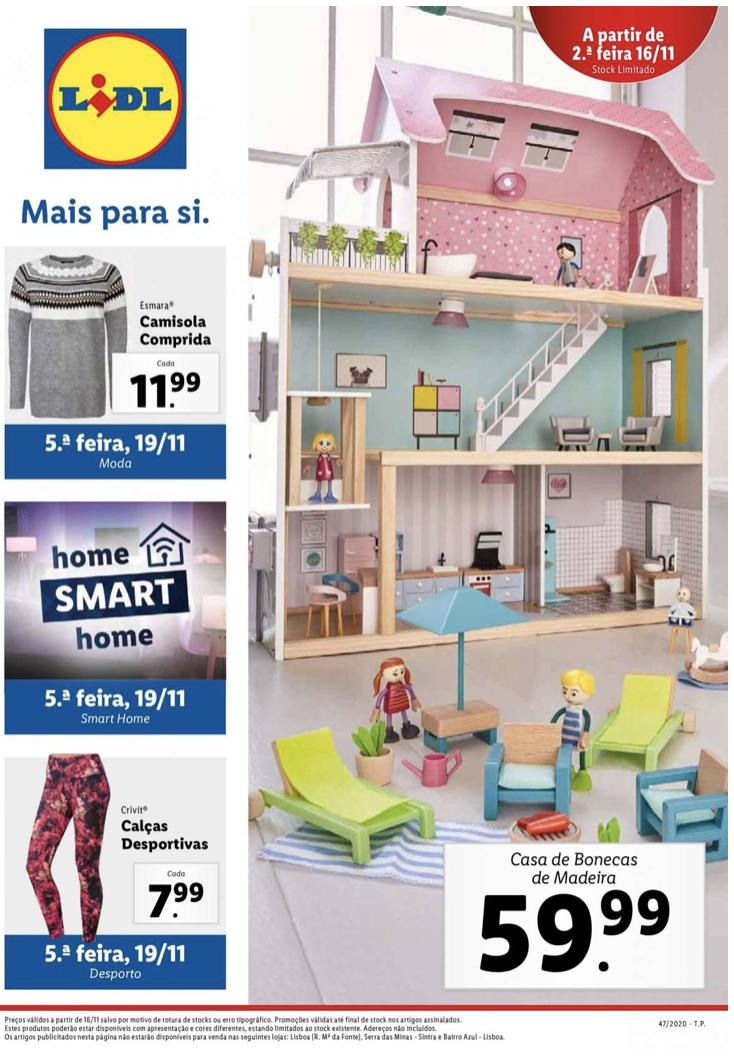name: (121, 819, 214, 857), (136, 311, 217, 354)
price: (473, 880, 673, 977), (123, 369, 209, 409), (144, 879, 209, 921)
product: (238, 42, 717, 994), (1, 244, 229, 423), (2, 754, 223, 930), (10, 500, 226, 679)
